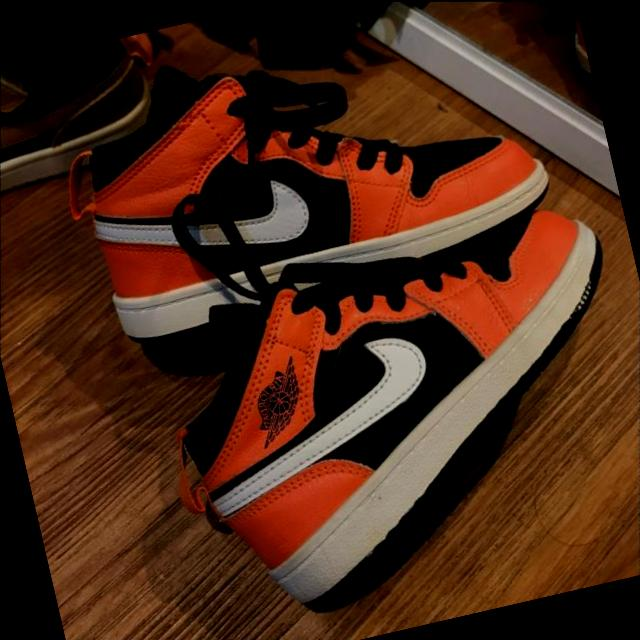nike_fake_jordan: (98, 102, 640, 640), (14, 0, 608, 453), (0, 25, 218, 271)
